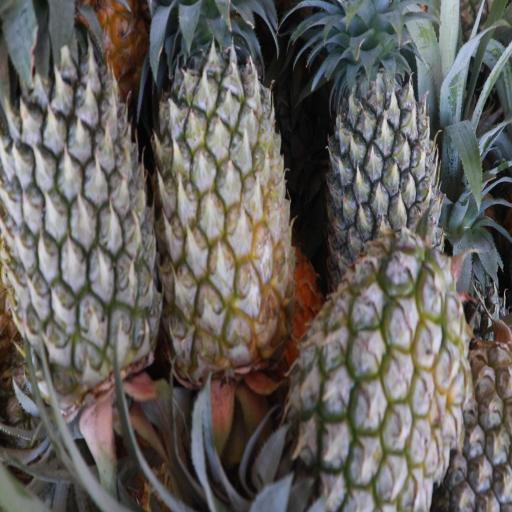------------------------------: (156, 8, 291, 376), (292, 245, 463, 512)
